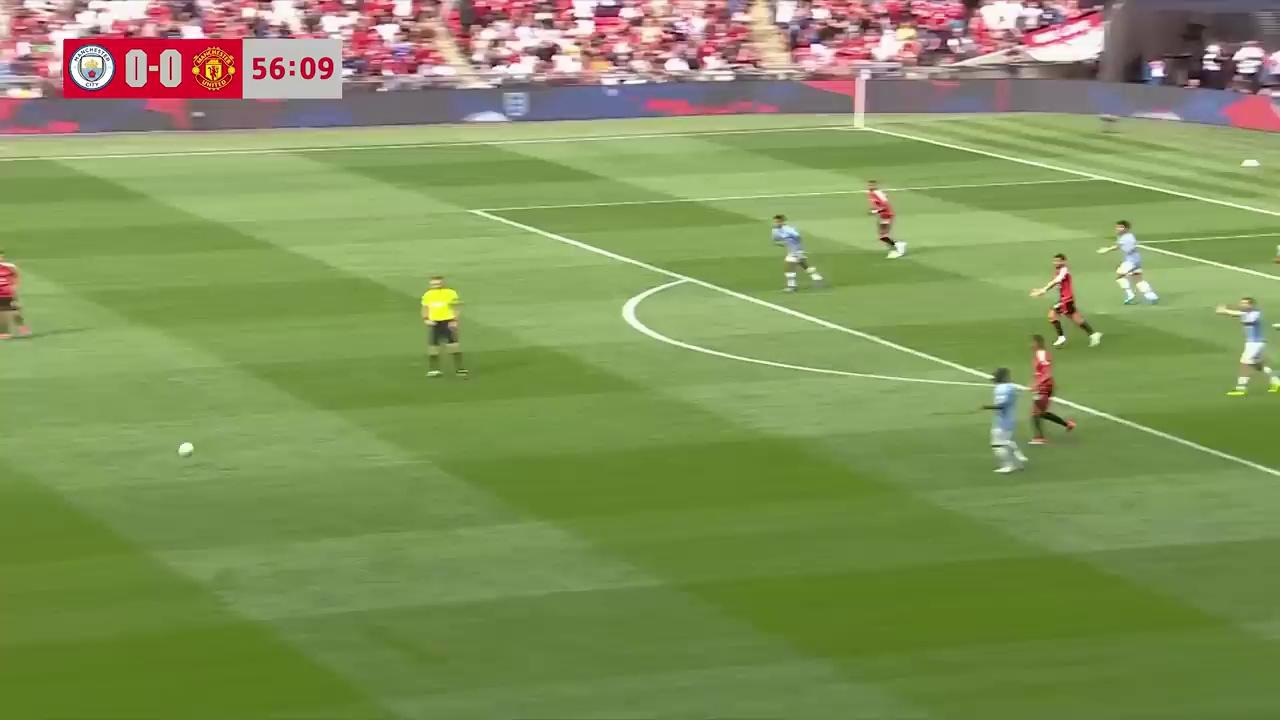ball: (175, 438, 196, 457)
player: (1217, 296, 1279, 396), (1037, 253, 1101, 347), (1027, 335, 1076, 444), (984, 367, 1030, 473), (1108, 219, 1158, 305), (770, 214, 823, 291), (864, 181, 904, 258), (0, 253, 30, 339)
referee: (422, 275, 470, 376)
